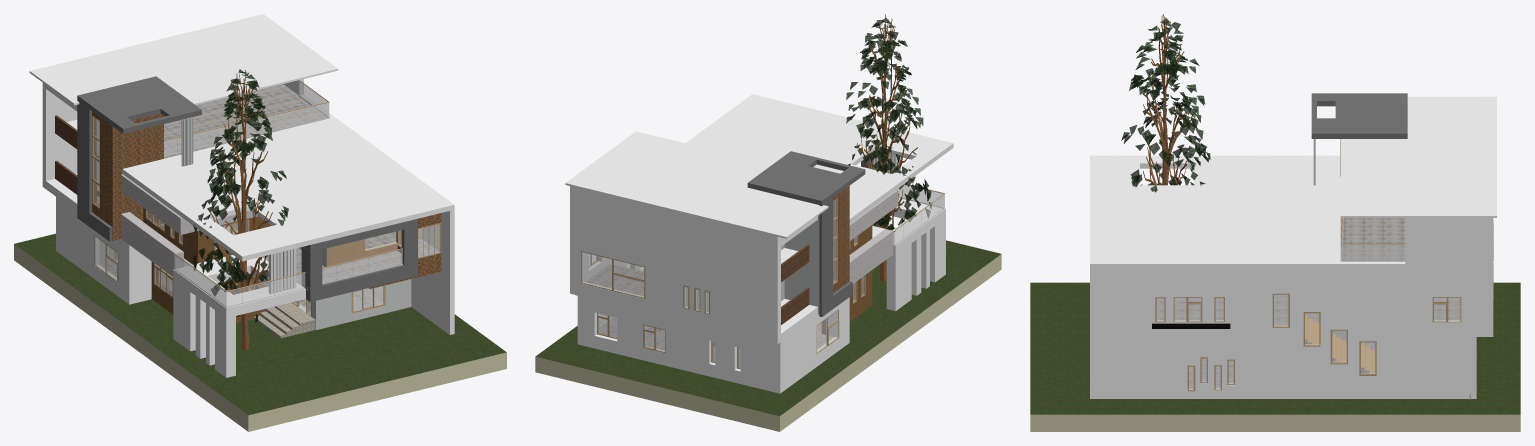
File: house-transformed.glb
3 renders of one model, left to right at view 1: azimuth 30°, elevation 25°; view 2: azimuth 150°, elevation 25°; view 3: azimuth 270°, elevation 25°, orthographic. The views are drawn at different scales.
Visible parts, largest first — view 1: Material22, Material15, Material24, Material9, Material27, Material6, Material10, Material26, Material23, Material4, Material11, Material3 (+1 smaller); view 2: Material22, Material15, Material27, Material24, Material10, Material23, Material26, Material9, Material6, Material4, Material14; view 3: Material22, Material15, Material9, Material24, Material27, Material23, Material26, Material25.
Boxes of the visible parts, x1,y1,x2,y2 form: Material22: (14, 14, 506, 431); Material15: (14, 233, 506, 415); Material24: (93, 80, 439, 313); Material9: (96, 84, 438, 311); Material27: (193, 69, 288, 322); Material6: (92, 111, 441, 288); Material10: (121, 174, 257, 276); Material26: (208, 70, 272, 350); Material23: (92, 80, 441, 316); Material4: (143, 208, 270, 323); Material11: (254, 302, 315, 338); Material3: (326, 228, 421, 267); Material22: (535, 94, 1001, 431); Material15: (535, 223, 1000, 416); Material27: (846, 17, 931, 230); Material24: (582, 184, 944, 367); Material10: (781, 189, 898, 300); Material23: (581, 184, 945, 369); Material26: (857, 14, 917, 281); Material9: (586, 264, 833, 367); Material6: (833, 186, 849, 292); Material4: (821, 225, 872, 334); Material14: (781, 244, 809, 324); Material22: (1030, 93, 1520, 431); Material15: (1030, 282, 1520, 414); Material9: (1156, 218, 1468, 399); Material24: (1156, 218, 1460, 389); Material27: (1121, 18, 1210, 192); Material23: (1155, 218, 1493, 391); Material26: (1142, 14, 1192, 185); Material25: (1305, 315, 1375, 373).
Size of the model in its own units: 16.33 by 18.2 by 25.66.
15 materials, 15 textured.
